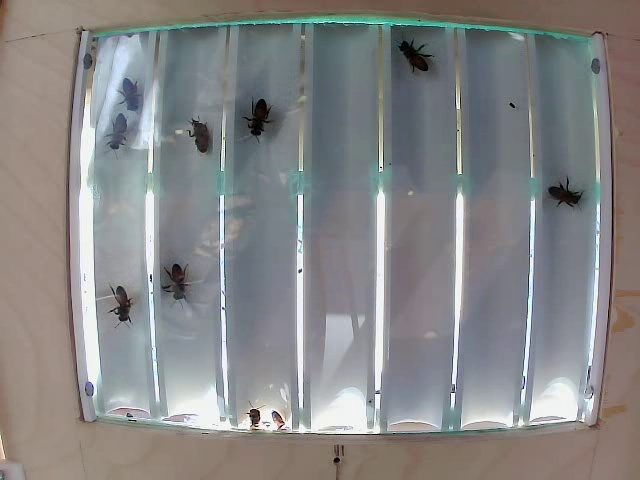bee: (247, 88, 283, 147), (103, 110, 150, 146), (189, 122, 224, 169), (117, 74, 155, 116), (542, 177, 593, 208), (151, 268, 199, 300), (106, 291, 137, 329), (395, 45, 416, 81)
